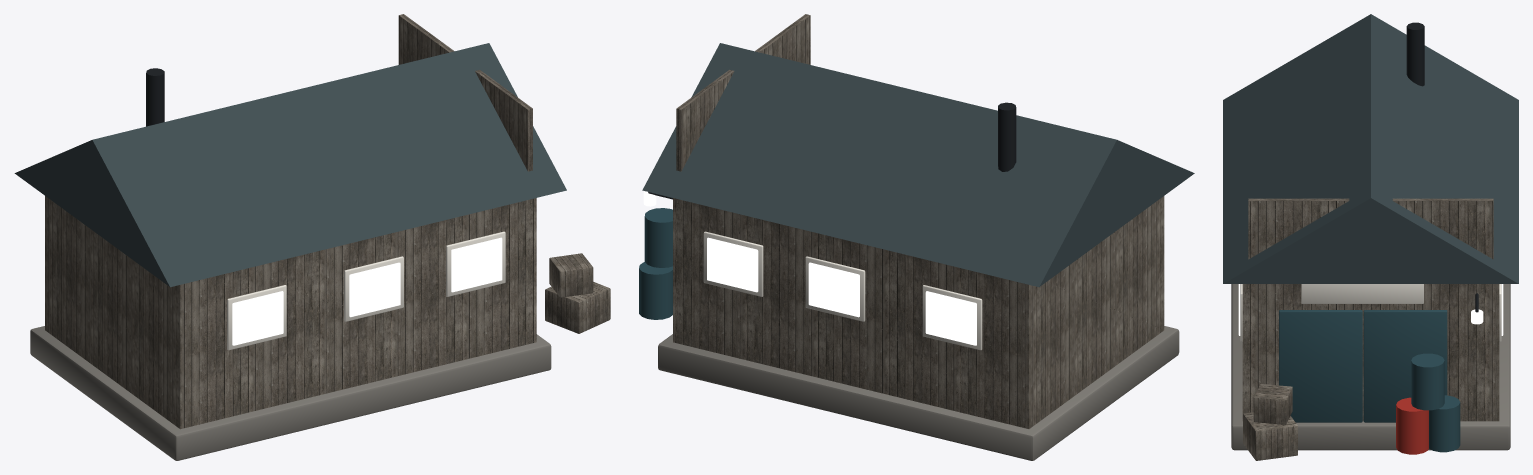
The model's file is shed.glb.
3 views of the same model, side by side, from view 1: azimuth 30°, elevation 25°; view 2: azimuth 150°, elevation 25°; view 3: azimuth 270°, elevation 25° (orthographic). The views are drawn at different scales.
Parts seen in each view (by area): view 1: shed; view 2: shed; view 3: shed.
Part boxes in pixels (x1=…): shed: x1=14, y1=14, x2=610, y2=460; shed: x1=639, y1=14, x2=1194, y2=460; shed: x1=1223, y1=14, x2=1518, y2=460.
Size of the model in its own units: 8.99 by 5.65 by 5.3.
9 materials, 1 textured.
